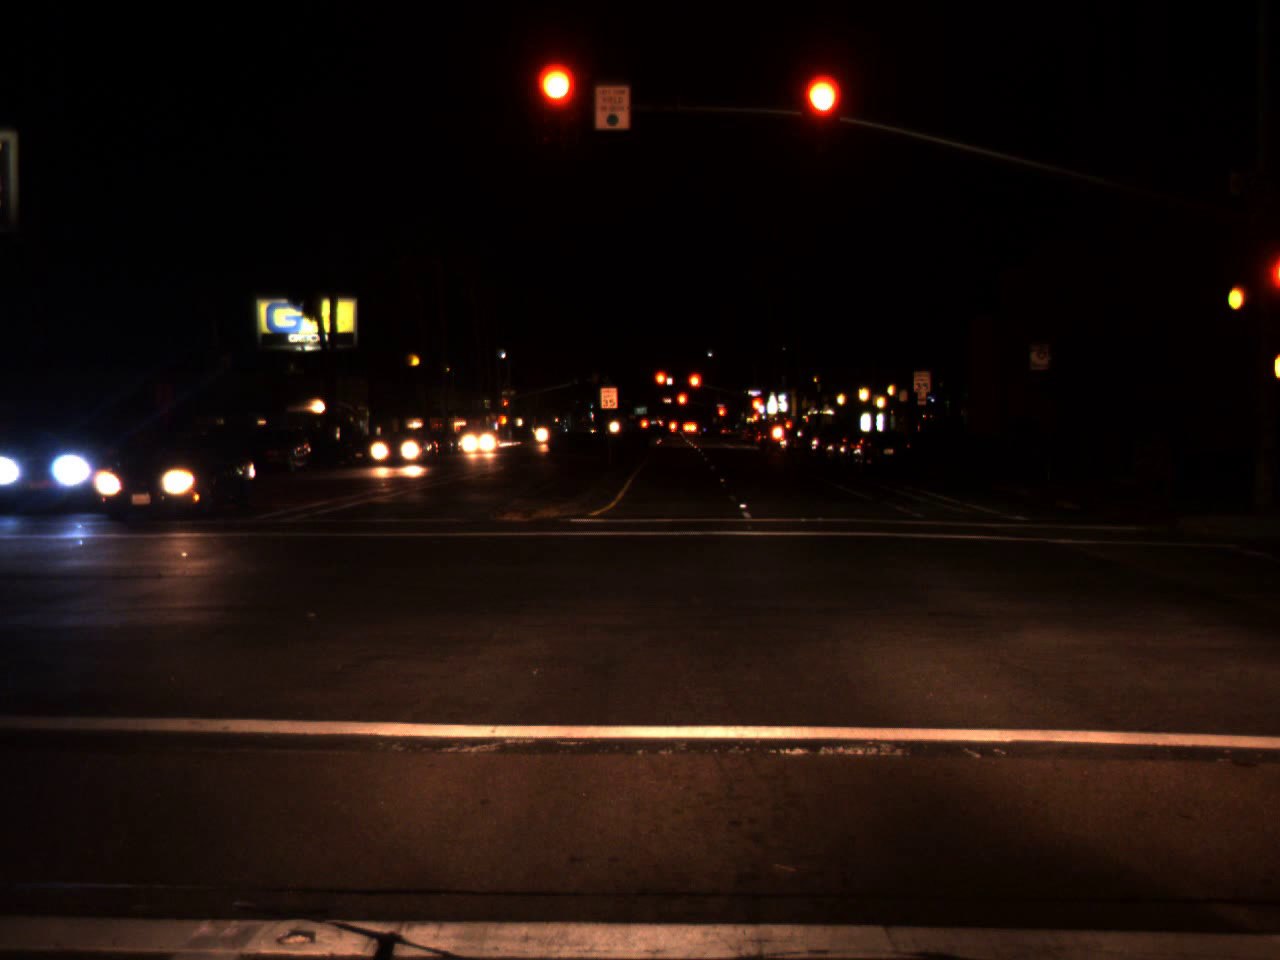stop: (537, 64, 577, 142), (802, 76, 841, 154), (653, 369, 669, 401), (686, 371, 702, 403), (675, 391, 688, 418), (750, 396, 763, 412), (717, 406, 726, 427), (503, 399, 509, 412)
